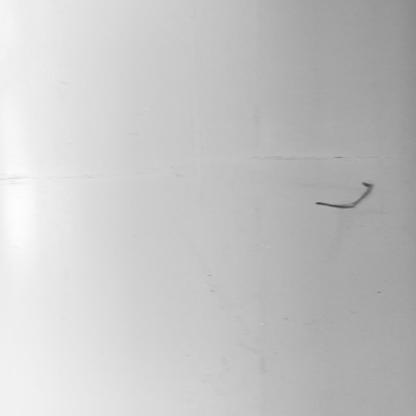fengxi: (310, 182, 380, 211)
